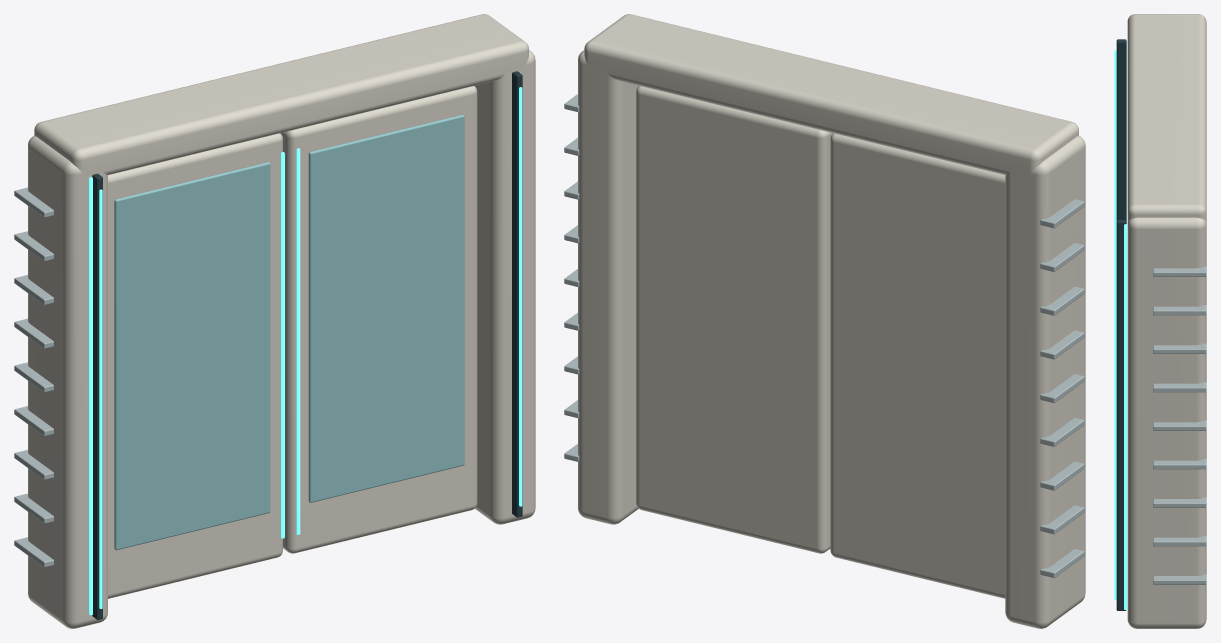
Rendered from anta-door.glb.
3 views of the same model, side by side, from view 1: azimuth 30°, elevation 25°; view 2: azimuth 150°, elevation 25°; view 3: azimuth 270°, elevation 25° (orthographic). The views are drawn at different scales.
Parts seen in each view (by area): view 1: anta-door | Ceramic | warm ivory, Door inset, Door inset.001, Door leaf.001, Door leaf, anta-door | Graphite precision, anta-door | Ice blue light, anta-door | Brushed aluminum, Seam light.001, Seam light; view 2: anta-door | Ceramic | warm ivory, Door leaf.001, Door leaf, anta-door | Brushed aluminum; view 3: anta-door | Ceramic | warm ivory, anta-door | Graphite precision, anta-door | Brushed aluminum, anta-door | Ice blue light.
Part boxes in pixels (left/top/right/bottom): anta-door | Ceramic | warm ivory: left=28, top=14, right=535, bottom=628; Door inset: left=114, top=162, right=270, bottom=550; Door inset.001: left=308, top=114, right=464, bottom=502; Door leaf.001: left=280, top=86, right=477, bottom=553; Door leaf: left=108, top=133, right=282, bottom=598; anta-door | Graphite precision: left=92, top=71, right=522, bottom=619; anta-door | Ice blue light: left=89, top=72, right=522, bottom=615; anta-door | Brushed aluminum: left=14, top=187, right=53, bottom=567; Seam light.001: left=296, top=148, right=300, bottom=534; Seam light: left=281, top=152, right=284, bottom=538; anta-door | Ceramic | warm ivory: left=578, top=14, right=1085, bottom=628; Door leaf.001: left=636, top=86, right=832, bottom=553; Door leaf: left=830, top=133, right=1005, bottom=598; anta-door | Brushed aluminum: left=564, top=94, right=1084, bottom=577; anta-door | Ceramic | warm ivory: left=1127, top=14, right=1206, bottom=628; anta-door | Graphite precision: left=1116, top=39, right=1126, bottom=610; anta-door | Brushed aluminum: left=1153, top=266, right=1206, bottom=584; anta-door | Ice blue light: left=1114, top=40, right=1126, bottom=609.
Size of the model in its own units: 5.05 by 4.71 by 0.9325.
